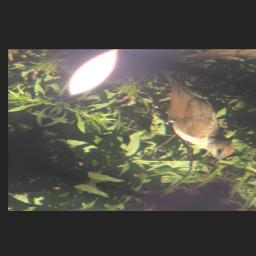Cuckoo: (94, 64, 256, 166)
